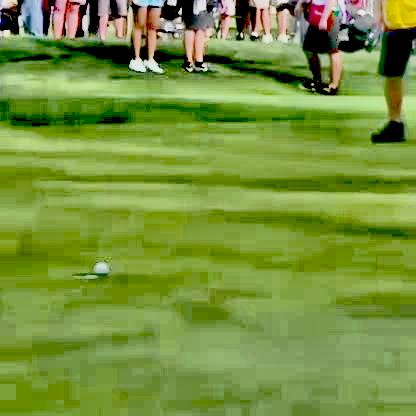golfball: (91, 259, 107, 275)
